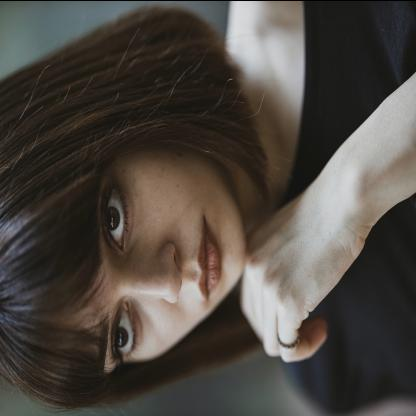Eye: (102, 181, 130, 254), (110, 298, 140, 365)
Mouth: (198, 214, 222, 298)
Nose: (126, 242, 182, 301)
